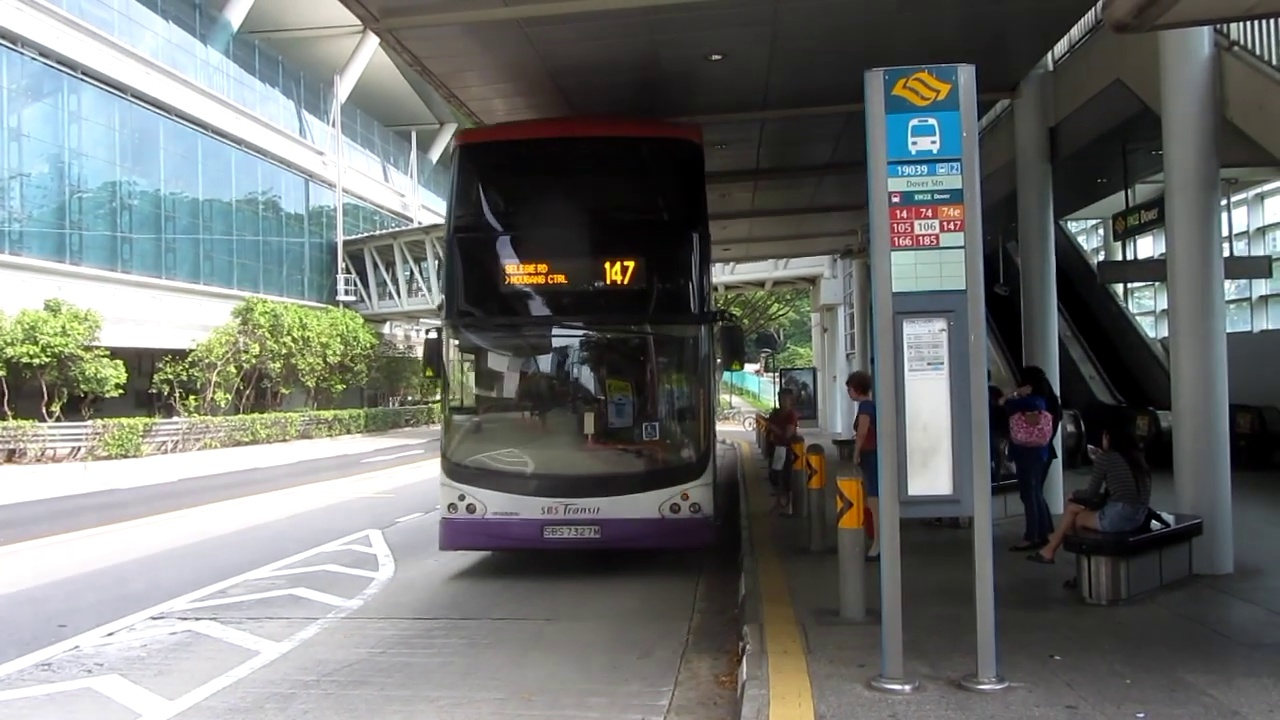bus panel: (497, 256, 647, 295)
